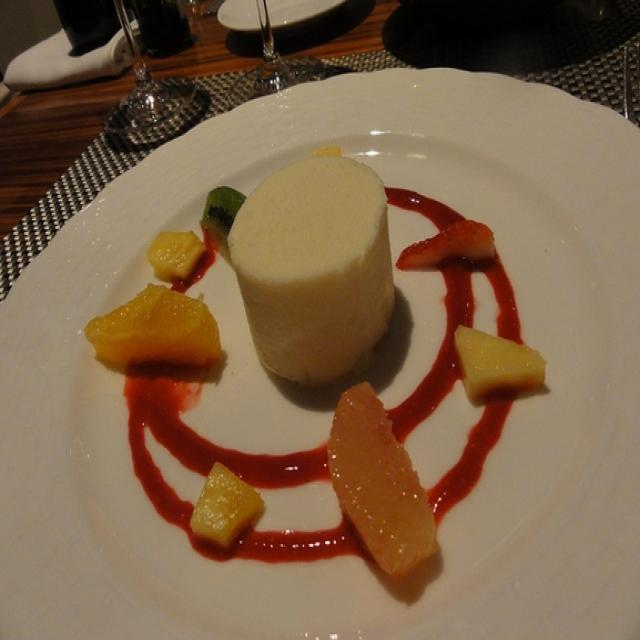Rare cheese cake: (99, 129, 569, 539)
